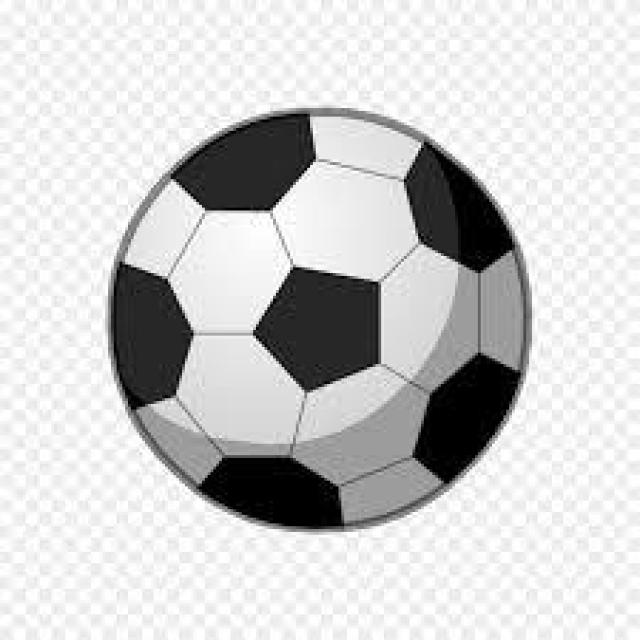Soccer Ball: (108, 105, 529, 532)
